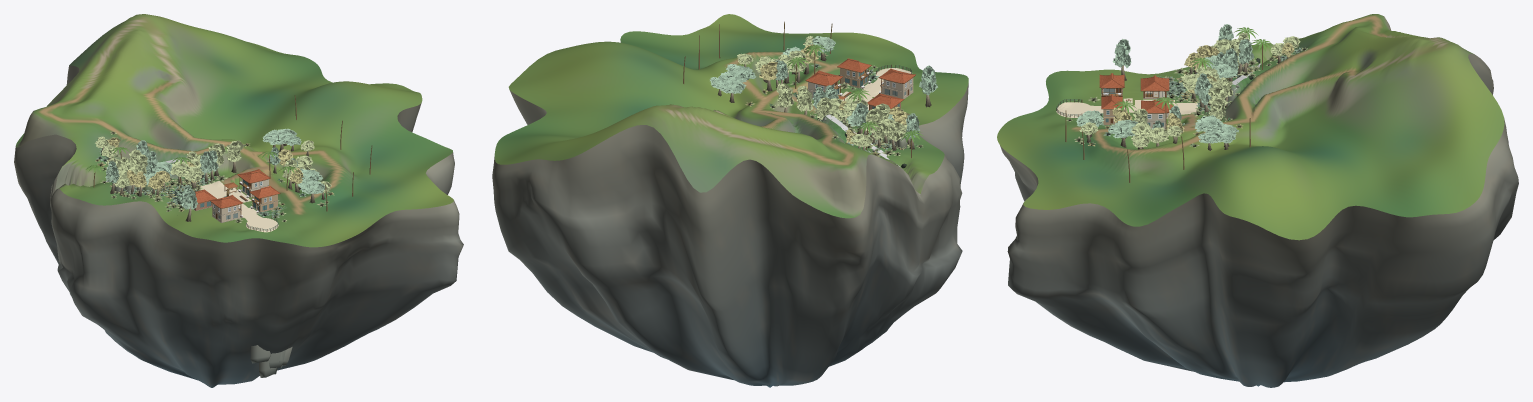
Rendered from accepted-context.glb.
3 renders of one model, left to right at view 1: azimuth 30°, elevation 25°; view 2: azimuth 150°, elevation 25°; view 3: azimuth 270°, elevation 25°, orthographic. The views are drawn at different scales.
Parts seen in each view (by area): view 1: Authored landscape / exact support triangles / 0, Chiseled geological strata / closed underside / 0, Continuous stone civic ground / actual support faces / 0; view 2: Chiseled geological strata / closed underside / 0, Authored landscape / exact support triangles / 0, Continuous stone civic ground / actual support faces / 0, Living landscape / canopy / 10; view 3: Chiseled geological strata / closed underside / 0, Authored landscape / exact support triangles / 0, Continuous stone civic ground / actual support faces / 0.
Boxes of the visible parts, left/top/right/bottom form: Authored landscape / exact support triangles / 0: left=16, top=14, right=453, bottom=247; Chiseled geological strata / closed underside / 0: left=14, top=65, right=463, bottom=387; Continuous stone civic ground / actual support faces / 0: left=200, top=181, right=278, bottom=232; Chiseled geological strata / closed underside / 0: left=492, top=83, right=968, bottom=387; Authored landscape / exact support triangles / 0: left=494, top=14, right=968, bottom=218; Continuous stone civic ground / actual support faces / 0: left=841, top=68, right=912, bottom=120; Living landscape / canopy / 10: left=725, top=64, right=756, bottom=82; Chiseled geological strata / closed underside / 0: left=1000, top=53, right=1518, bottom=387; Authored landscape / exact support triangles / 0: left=997, top=14, right=1504, bottom=240; Continuous stone civic ground / actual support faces / 0: left=1056, top=98, right=1197, bottom=118.
Bounding box in the file's own units: 171 × 134 × 182.
